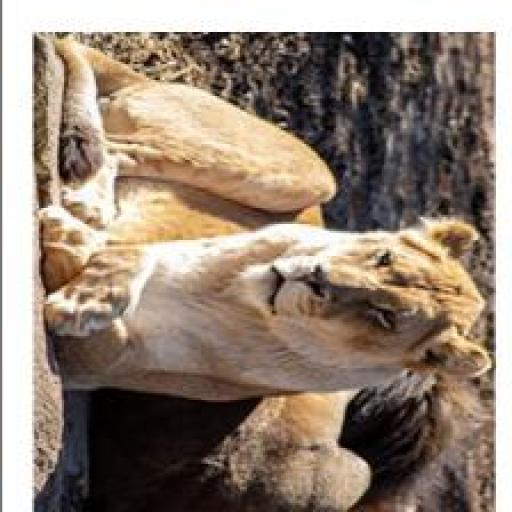lion: (41, 23, 500, 404)
